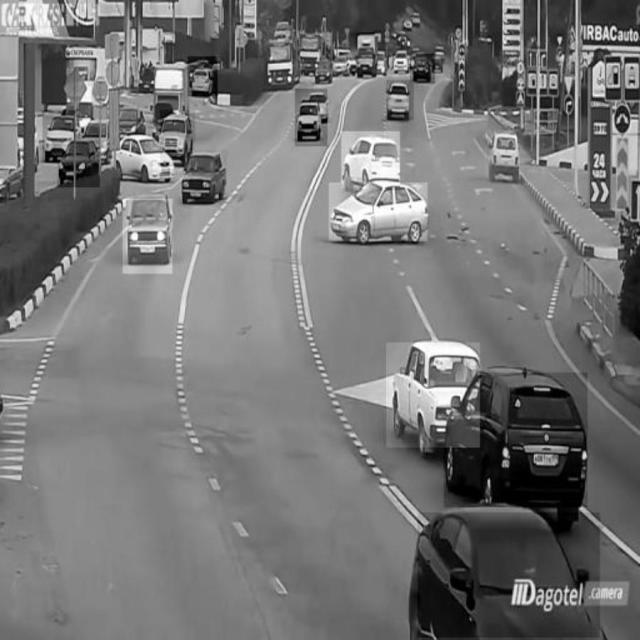vehicle: (418, 513, 600, 637), (444, 374, 588, 508), (387, 342, 480, 446), (330, 183, 428, 241), (122, 199, 172, 273), (113, 128, 175, 184), (341, 132, 399, 189), (183, 149, 228, 207), (58, 127, 100, 188), (266, 30, 298, 91), (485, 130, 525, 178), (296, 89, 328, 146), (161, 111, 196, 162), (43, 111, 75, 163), (350, 32, 378, 76), (188, 56, 218, 96), (386, 81, 413, 121), (410, 54, 435, 84)
